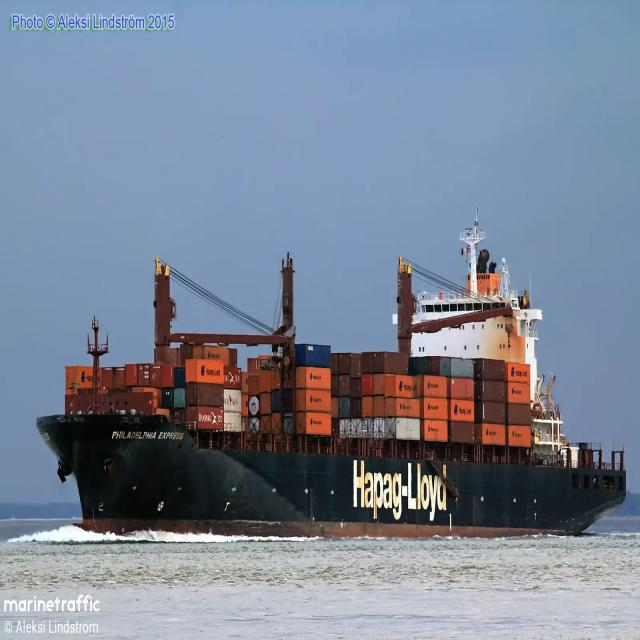Cargo: (37, 222, 626, 531)
